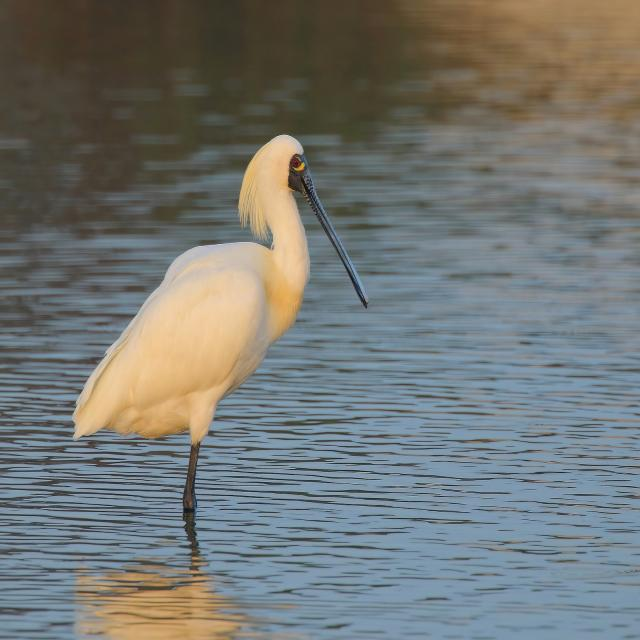Black-faced spoonbill: (74, 136, 367, 510)
